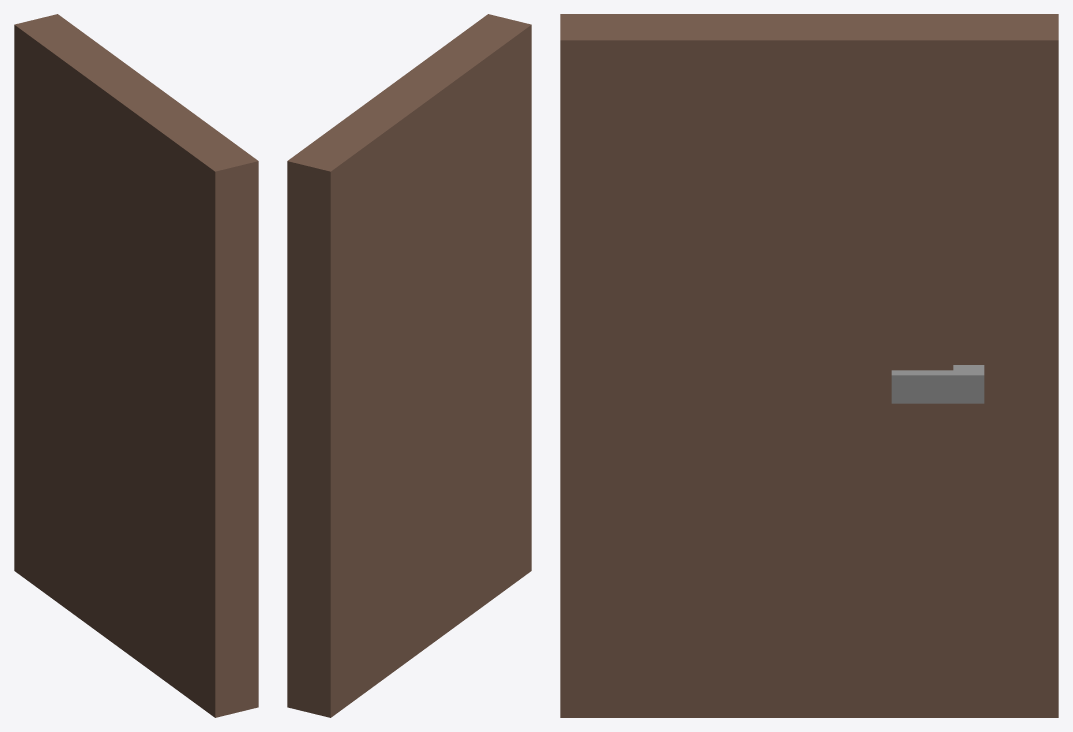
The model's file is door.fbx.
3 renders of one model, left to right at view 1: azimuth 30°, elevation 25°; view 2: azimuth 150°, elevation 25°; view 3: azimuth 270°, elevation 25°, orthographic. The views are drawn at different scales.
Parts seen in each view (by area): view 1: Cube; view 2: Cube; view 3: Cube.
Boxes of the visible parts, x1,y1,x2,y2 form: Cube: (14, 14, 258, 717); Cube: (287, 14, 531, 717); Cube: (560, 14, 1058, 717).
Size of the model in its own units: 17.46 by 150 by 100.
